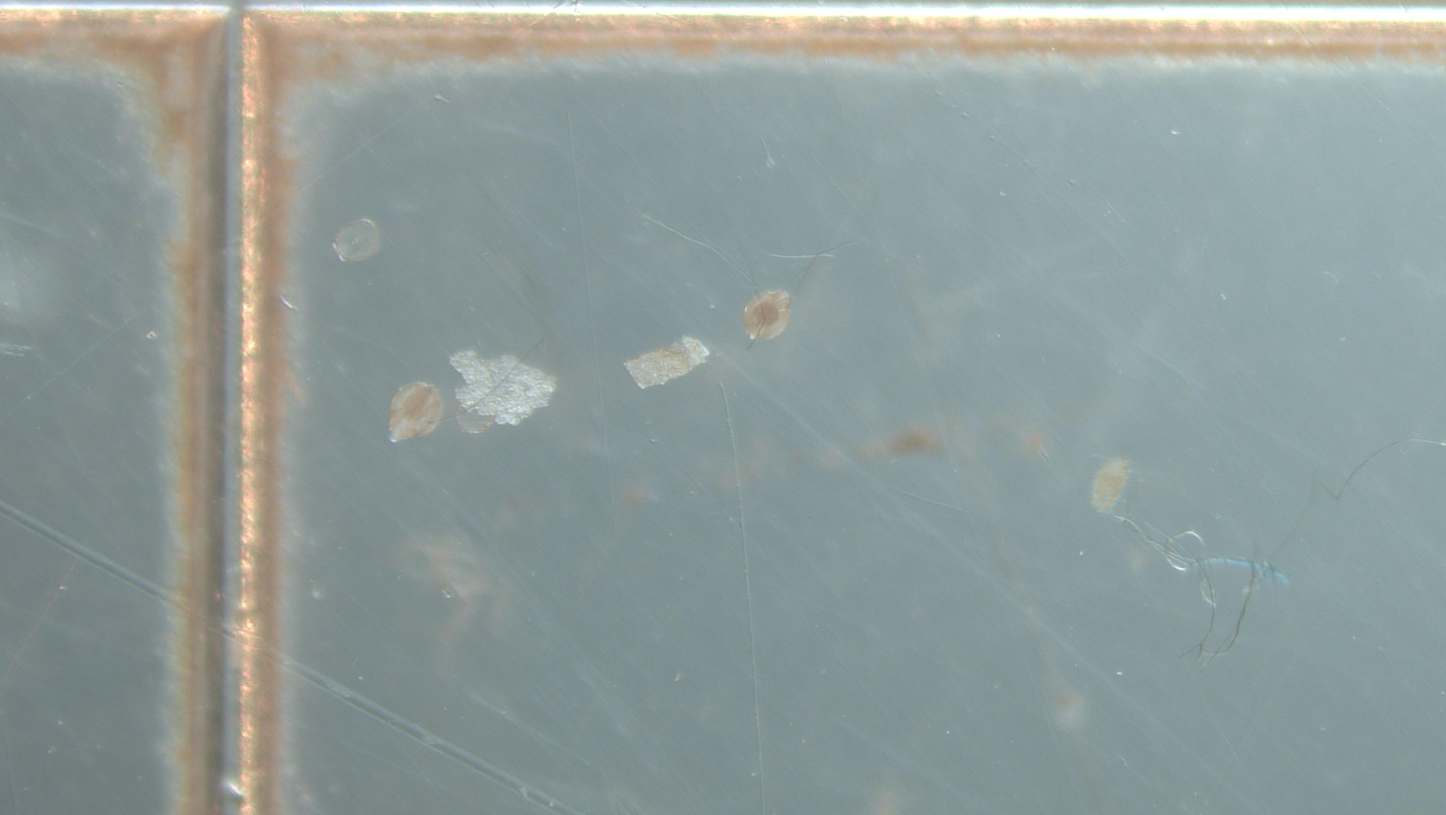dead: (334, 219, 380, 262), (1162, 531, 1203, 571), (458, 411, 494, 433)
live: (389, 382, 443, 442), (743, 290, 791, 339)
